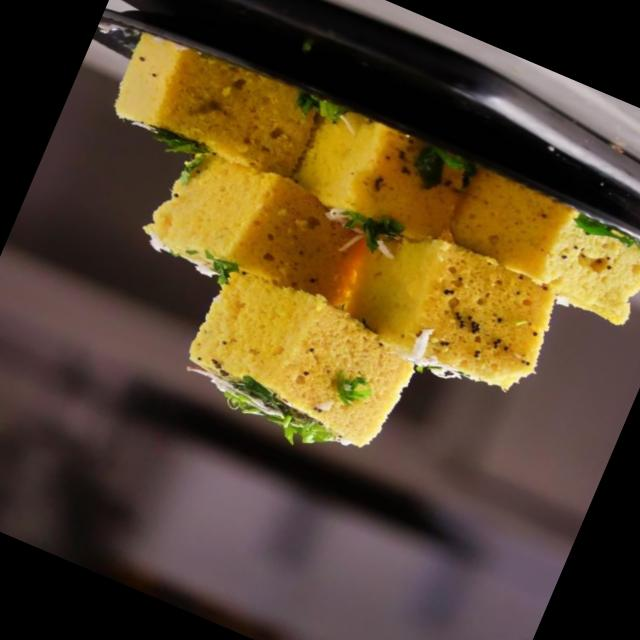dhokla: (23, 26, 640, 537)
